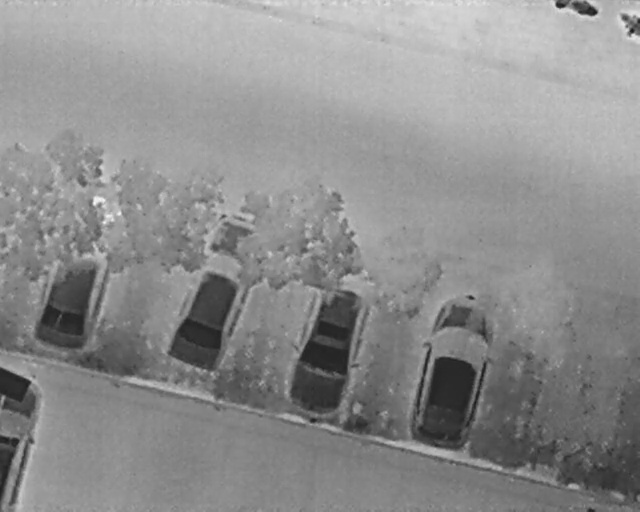Bicycle: (552, 0, 601, 18), (619, 11, 639, 38)
Car: (157, 200, 276, 381), (396, 281, 510, 459), (27, 182, 135, 357), (280, 275, 378, 425), (0, 370, 62, 511)
